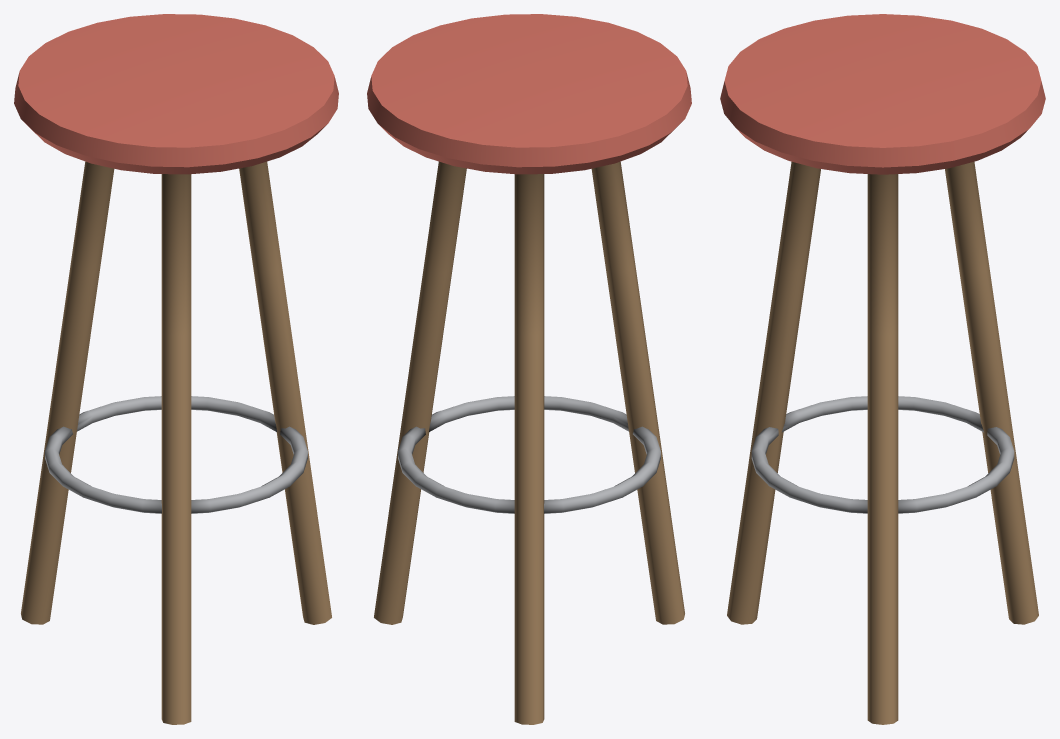
The model's file is nd_stool.glb.
The picture shows the model from 3 angles, left to right: view 1: azimuth 30°, elevation 25°; view 2: azimuth 150°, elevation 25°; view 3: azimuth 270°, elevation 25°; orthographic projection.
Visible parts, largest first — view 1: PART; view 2: PART; view 3: PART.
Boxes of the visible parts, box(x1,y1,x2,y2) form: PART: box(14, 14, 338, 724); PART: box(367, 14, 691, 724); PART: box(720, 14, 1045, 724).
Bounding box in the file's own units: 0.3139 × 0.587 × 0.3.
